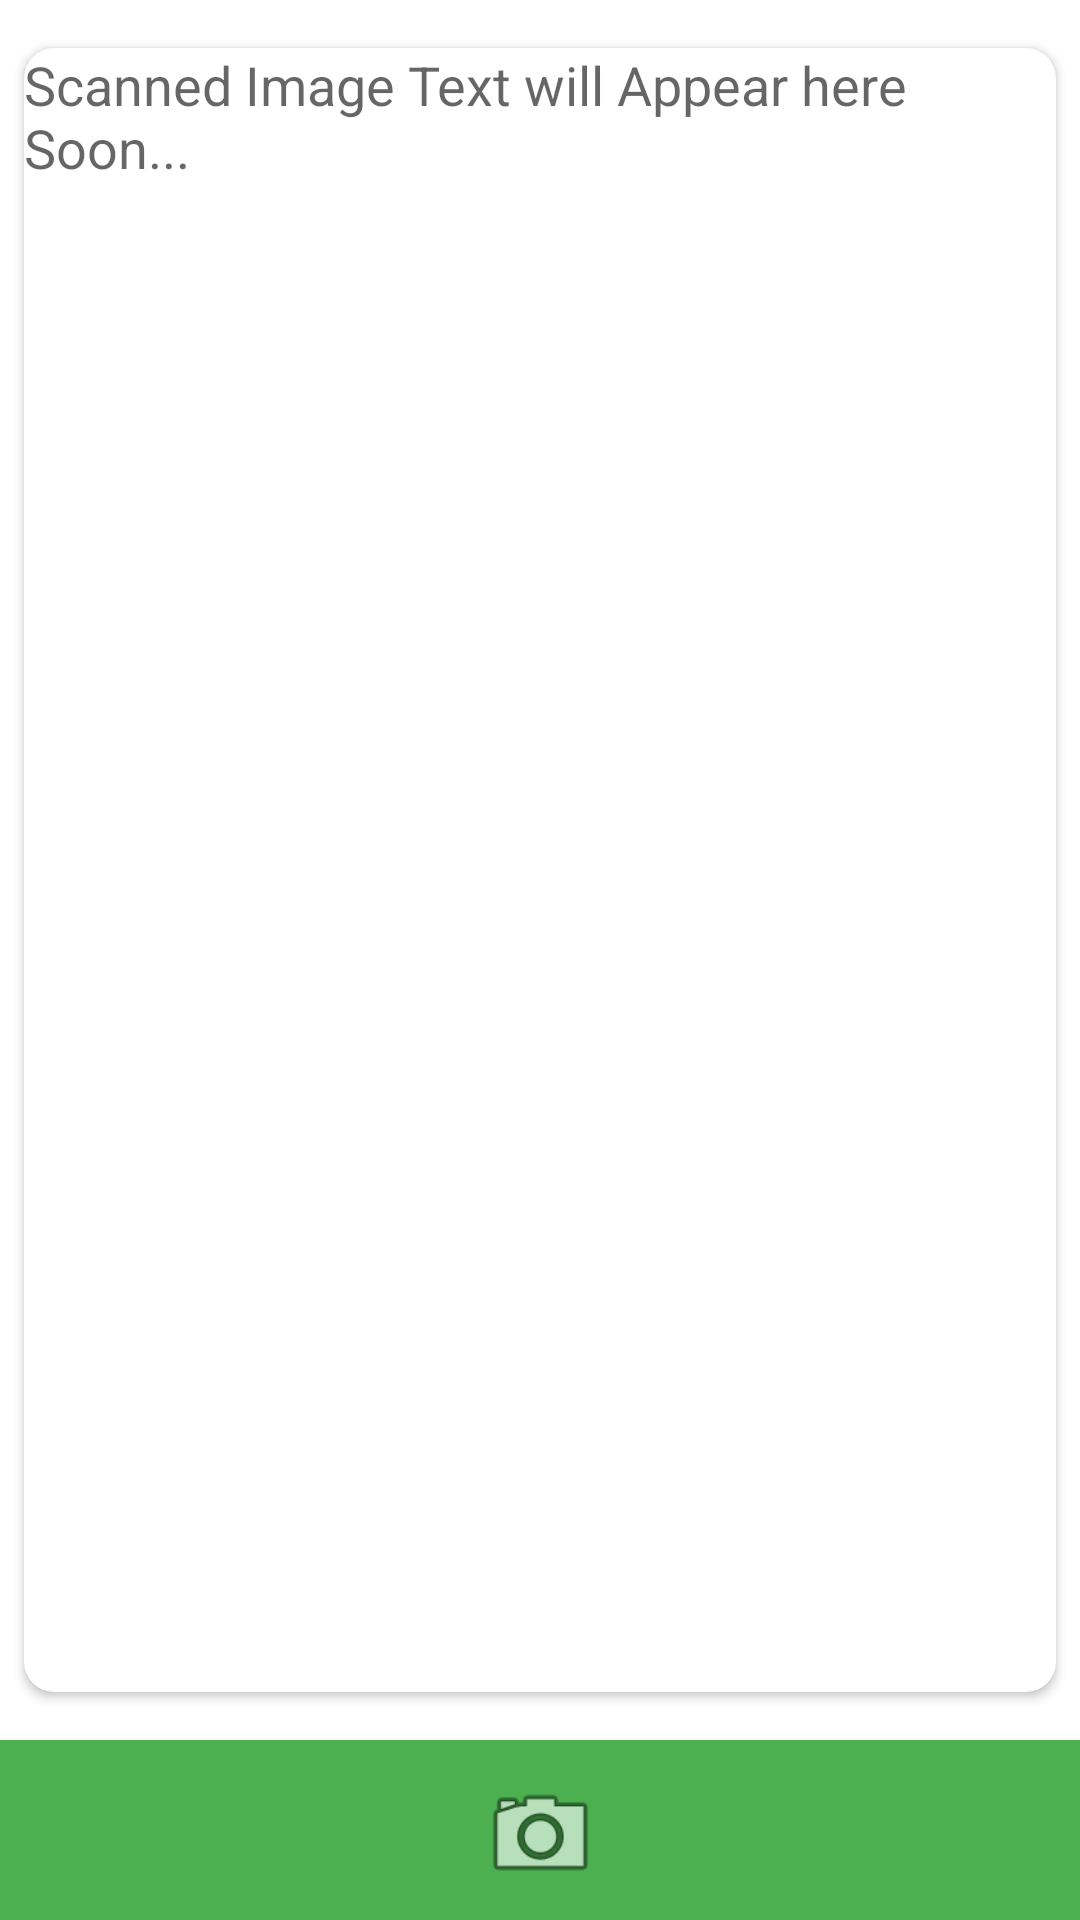

Icons on this 1080 x 1920 Android screen, each with its box as (x1, y1, x2, y2):
camera: (493, 1795, 588, 1870)
